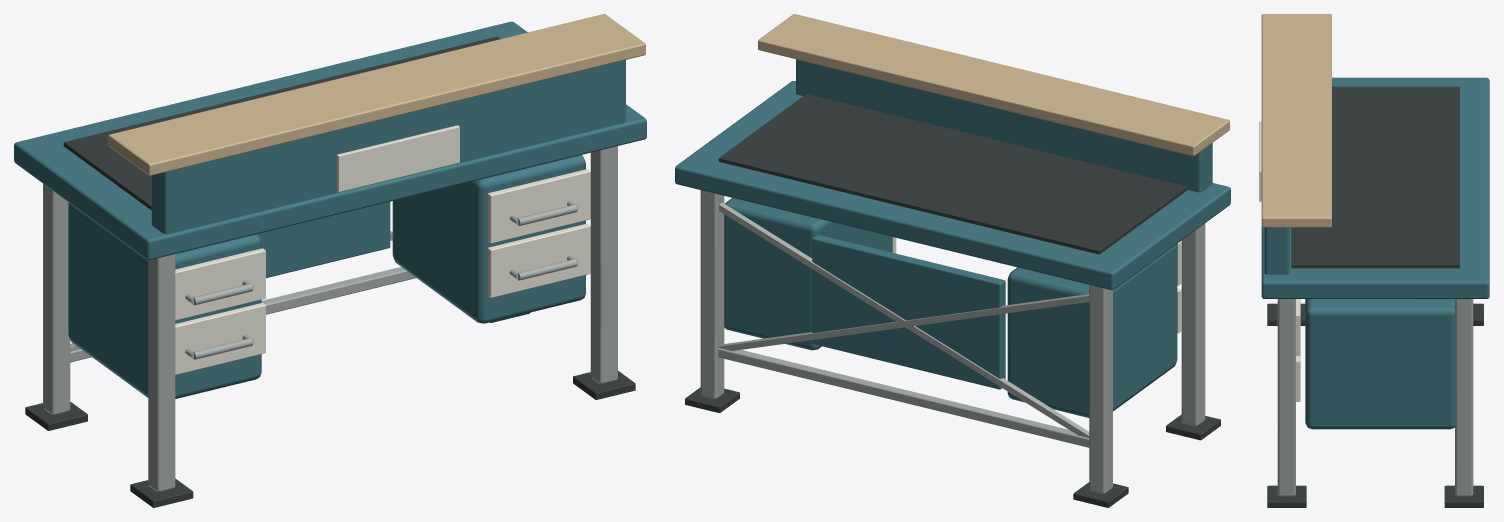
File: optician-and-optical-lens-workshop-optician-and-optica-bb781504__31712.glb
3 views of the same model, side by side, from view 1: azimuth 30°, elevation 25°; view 2: azimuth 150°, elevation 25°; view 3: azimuth 270°, elevation 25° (orthographic). The views are drawn at different scales.
Parts seen in each view (by area): view 1: optician-and-optical-lens-workshop-appointment-reception-des (×5); view 2: optician-and-optical-lens-workshop-appointment-reception-des (×4); view 3: optician-and-optical-lens-workshop-appointment-reception-des (×5).
Part boxes in pixels (x1,y1,x2,y2): optician-and-optical-lens-workshop-appointment-reception-des (×5): (14,14,646,507); optician-and-optical-lens-workshop-appointment-reception-des (×4): (675,14,1230,507); optician-and-optical-lens-workshop-appointment-reception-des (×5): (1259,14,1489,507).
Size of the model in its own units: 1.73 by 1.15 by 0.818.
